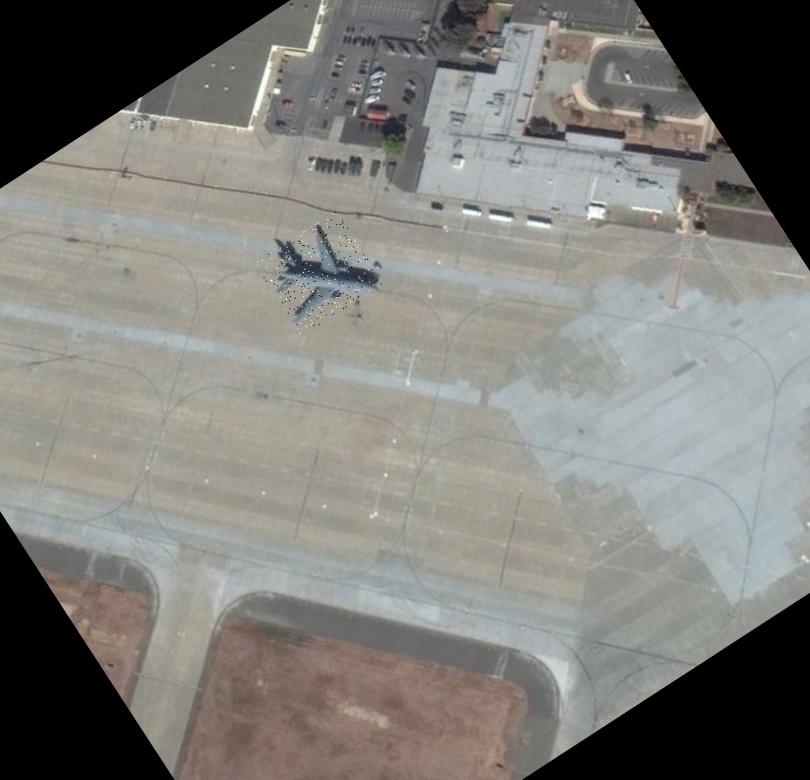A18: (254, 210, 384, 336)
